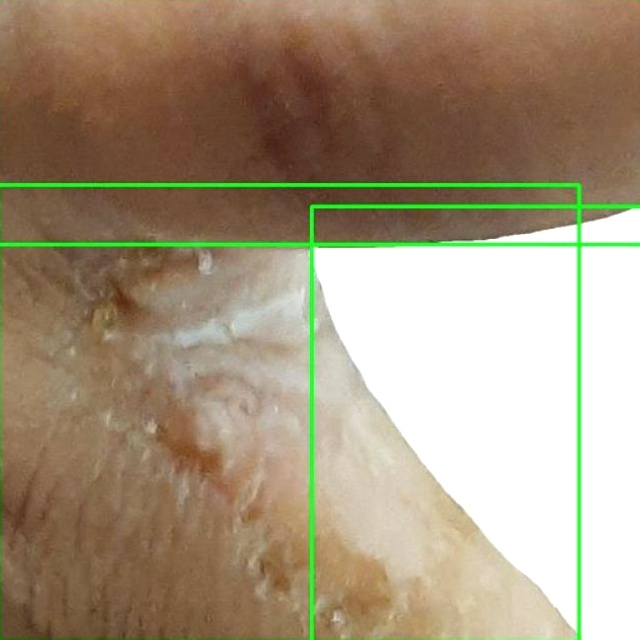Scabies: (0, 186, 579, 639), (0, 0, 639, 244), (311, 206, 639, 639)
